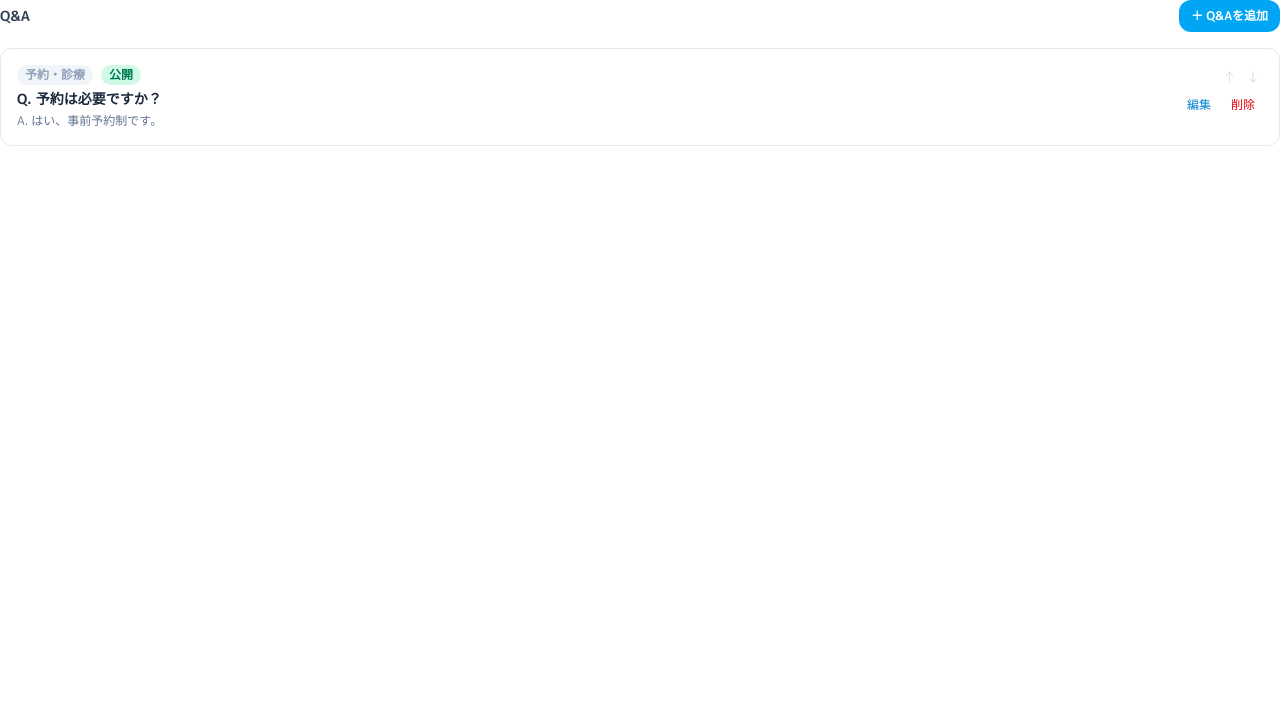
Test: ClinicQaManager › ステータスを「下書き」に変更して保存するとbodyに反映される
expect the text "Q. 予約は必要ですか？" is shown: met, box x1=17 y1=89 x2=162 y2=108
Click the button "編集" at (1199, 105), box x1=1179 y1=93 x2=1219 y2=117
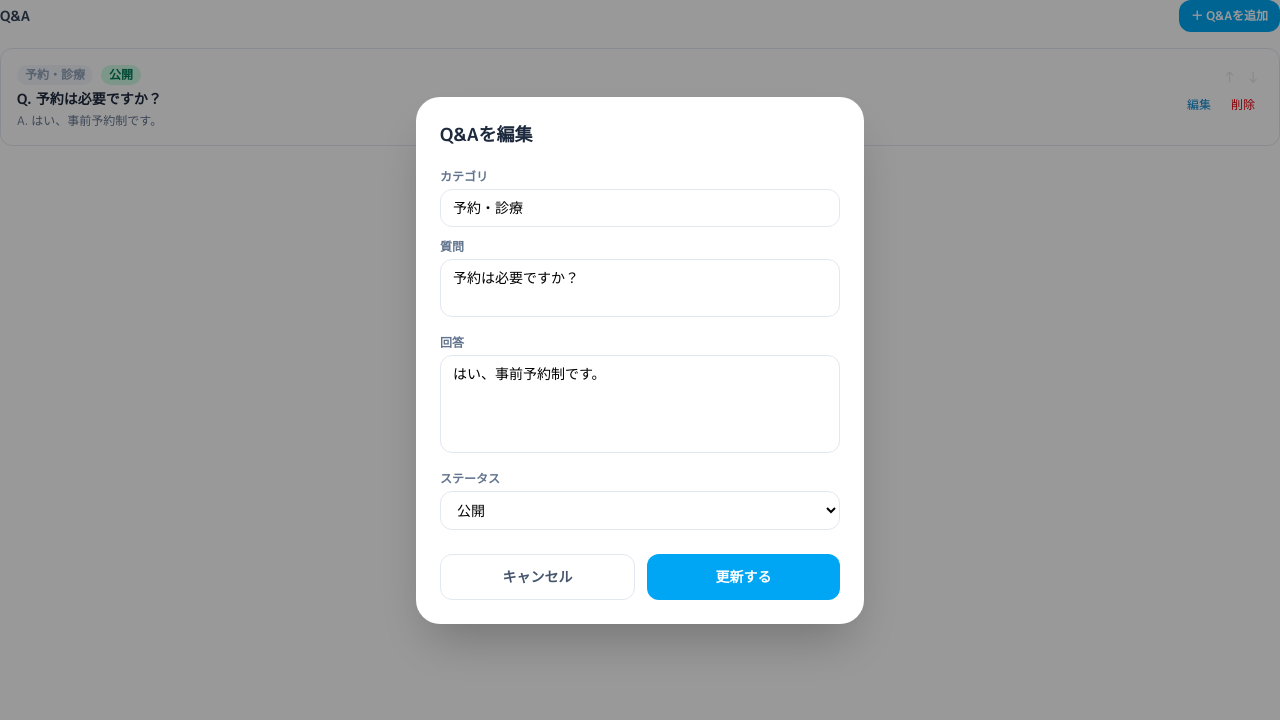
Select "下書き" in the dropdown at (640, 510), box x1=440 y1=490 x2=840 y2=530
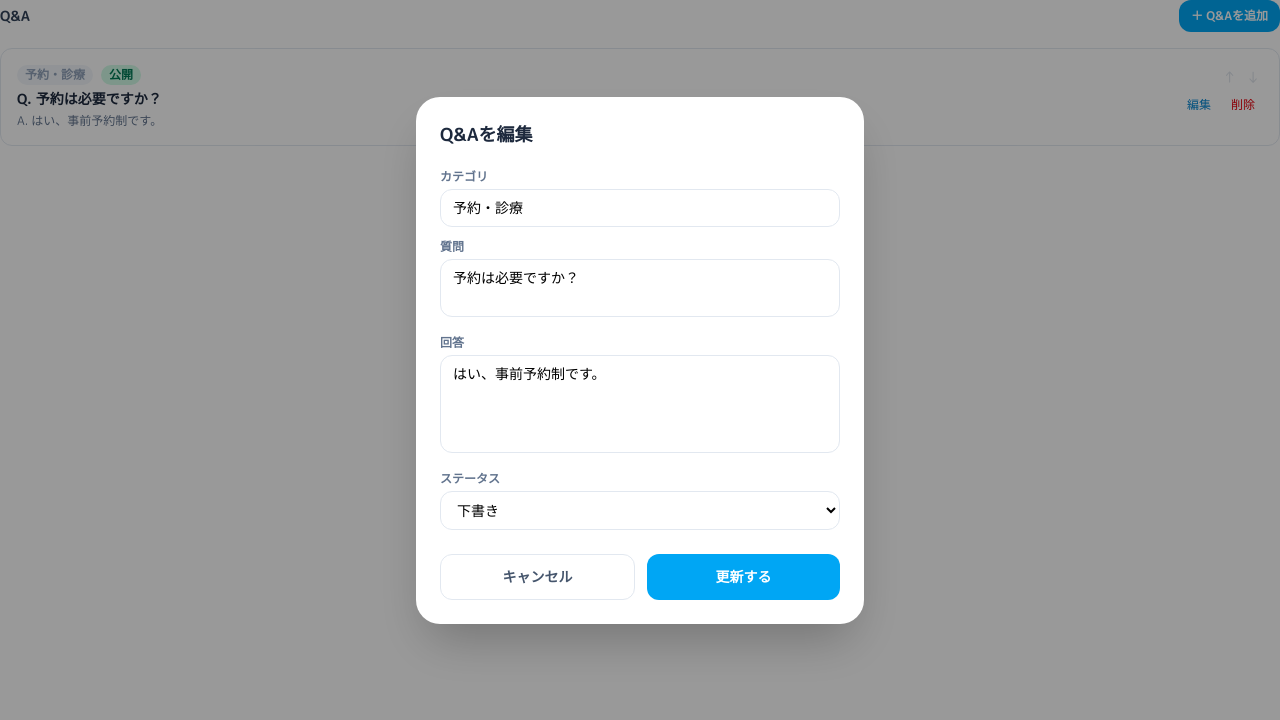
Click the button "更新する" at (744, 576), box x1=647 y1=554 x2=840 y2=600
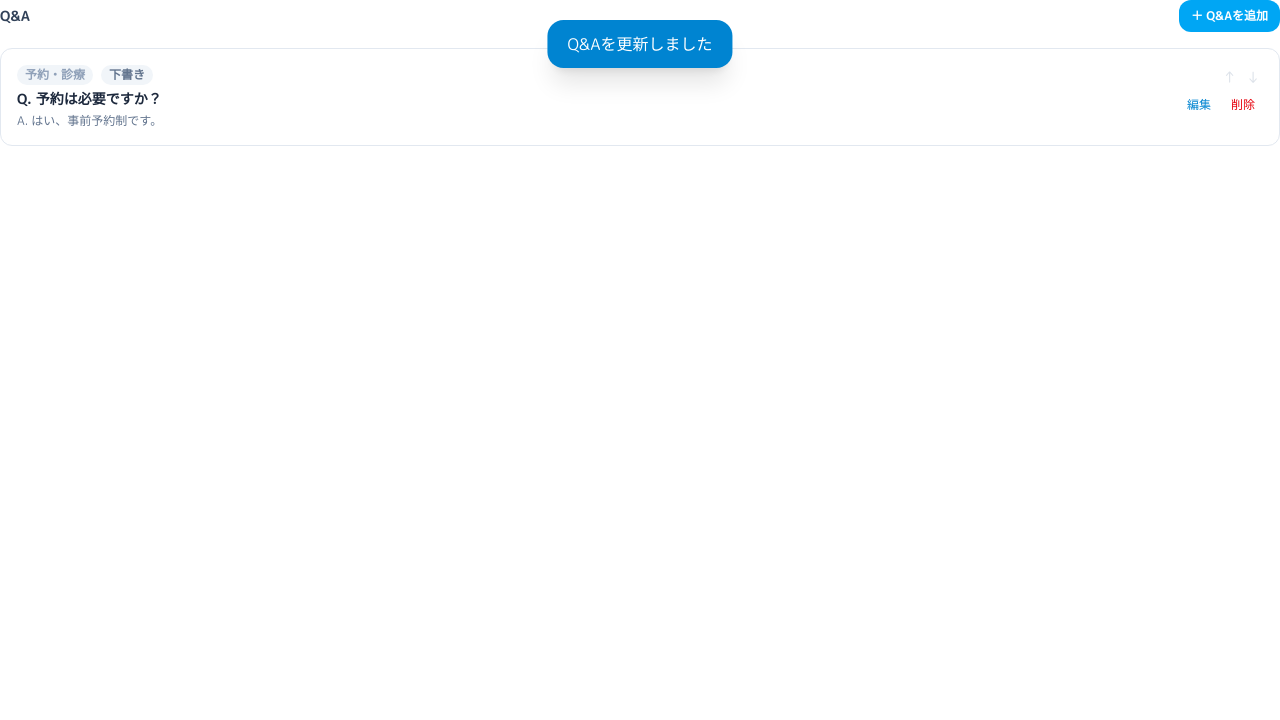
expect the text "Q&Aを更新しました" is shown: met, box x1=547 y1=20 x2=732 y2=68
expect the text "下書き" is shown: met, box x1=101 y1=65 x2=153 y2=85
